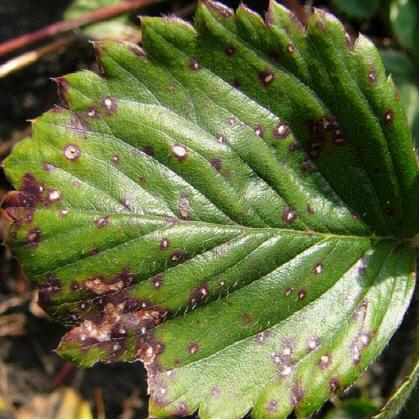Leaf Spot: (0, 0, 418, 418)
